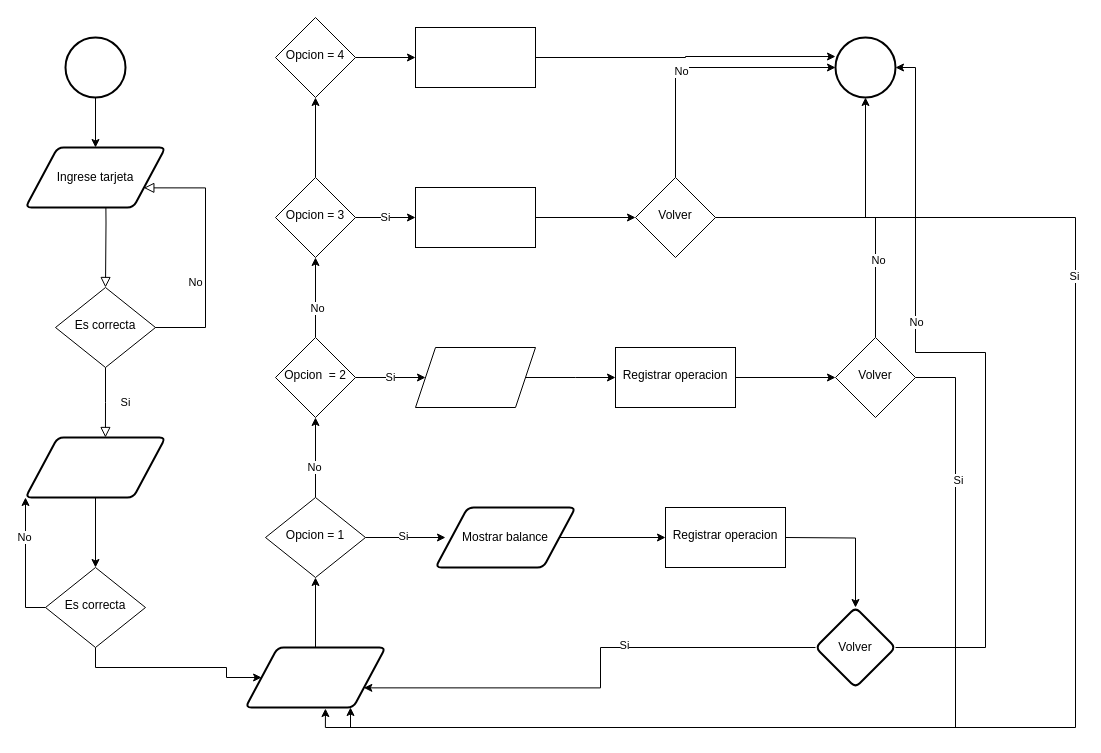
Image size: 1101x753. Some labels were removed from this diagram. The centre of each missing label's shape, as x and y in pixels:
Fin: the point at 865,67
Ingrese opcion: the point at 315,677
Ingrese pin: the point at 95,467
Inicio: the point at 95,67
Mostrar reporte: the point at 475,217
Retirar dinero: the point at 475,377
Saliendo de la aplicacion: the point at 475,57
